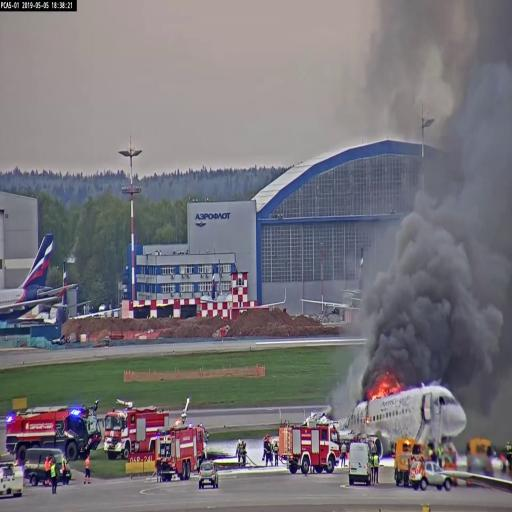fire: (374, 380, 399, 405)
smoke: (384, 224, 497, 385)
